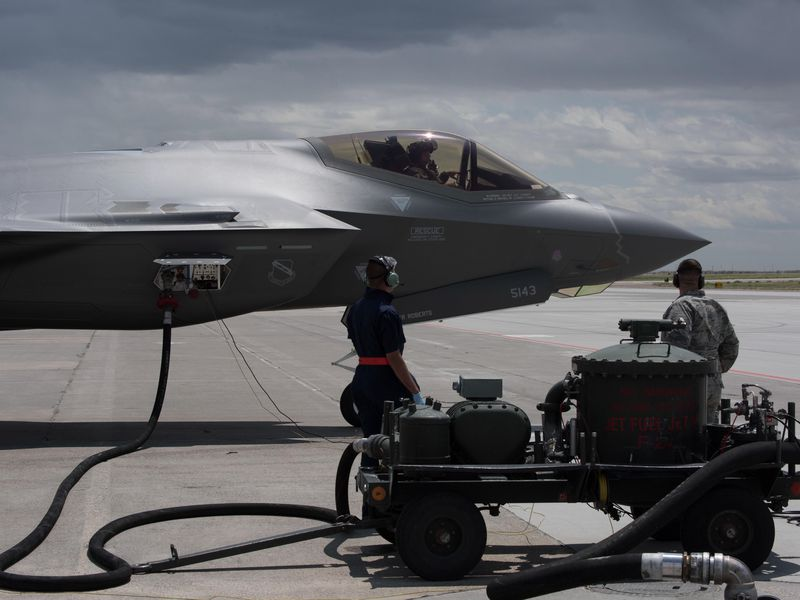F-35 Lightning: (11, 66, 735, 377)
